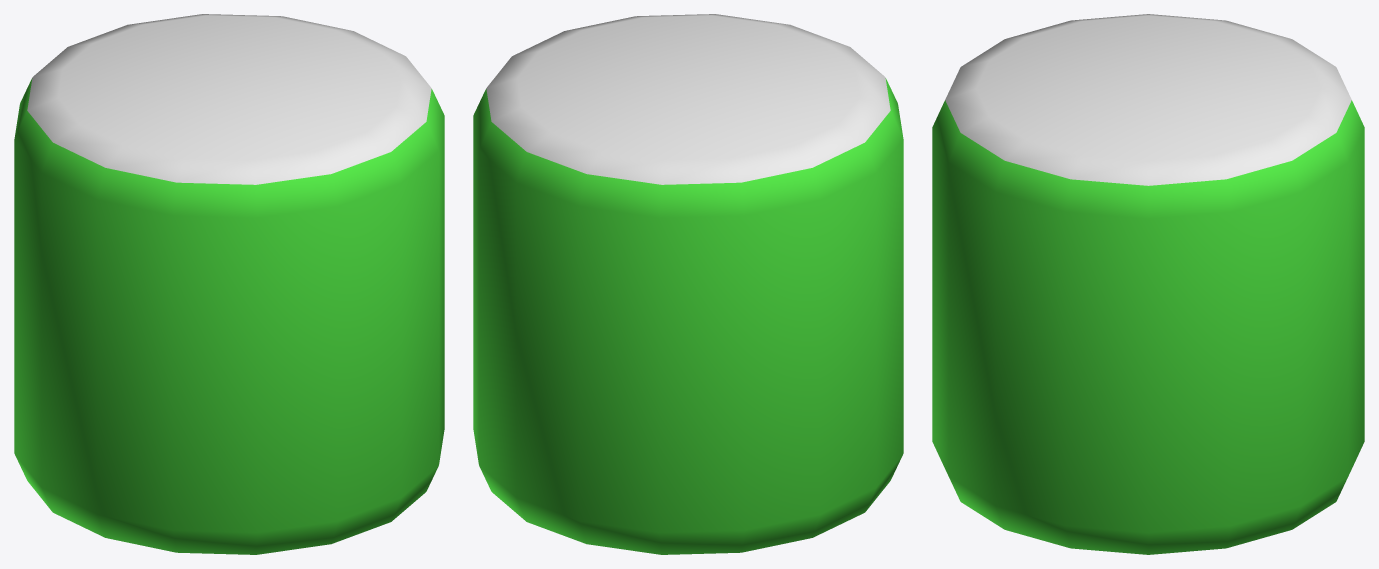
File: Cylinder_Beveled_BlendShaped_Split.fbx
3 views of the same model, side by side, from view 1: azimuth 30°, elevation 25°; view 2: azimuth 150°, elevation 25°; view 3: azimuth 270°, elevation 25° (orthographic).
Visible parts, largest first — view 1: Cylinder_B_Blend_S_Split; view 2: Cylinder_B_Blend_S_Split; view 3: Cylinder_B_Blend_S_Split.
Boxes of the visible parts, box(x1,y1,x2,y2) form: Cylinder_B_Blend_S_Split: box(14, 14, 444, 554); Cylinder_B_Blend_S_Split: box(473, 14, 903, 554); Cylinder_B_Blend_S_Split: box(932, 14, 1364, 554).
Bounding box in the file's own units: 0.5 × 0.5 × 0.5.
